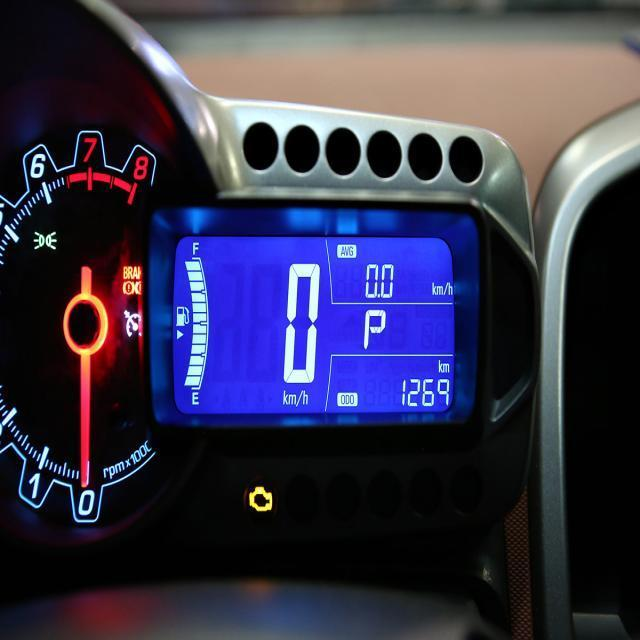SideLamp: (32, 229, 56, 251)
